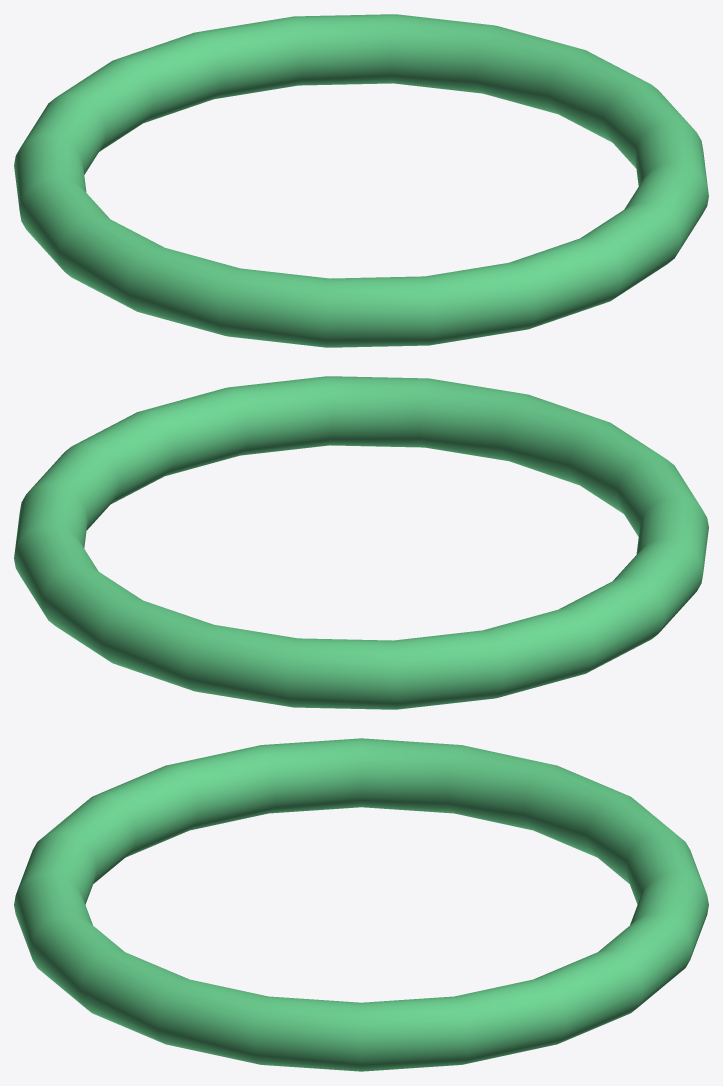
The model's file is ring.fbx.
3 renders of one model, top to bottom at view 1: azimuth 30°, elevation 25°; view 2: azimuth 150°, elevation 25°; view 3: azimuth 270°, elevation 25°, orthographic.
Parts seen in each view (by area): view 1: ring; view 2: ring; view 3: ring.
Boxes of the visible parts, x1,y1,x2,y2 form: ring: (14,14,708,347); ring: (14,376,708,709); ring: (14,738,708,1071).
Bounding box in the file's own units: 5.32 × 0.5321 × 5.32.
